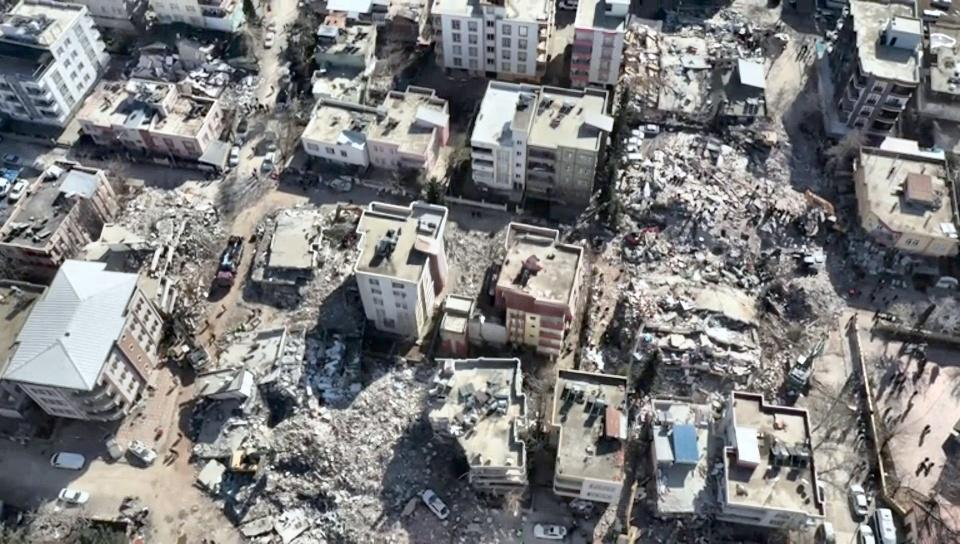kapali: (182, 471, 530, 543), (767, 78, 845, 366), (162, 301, 264, 475)
